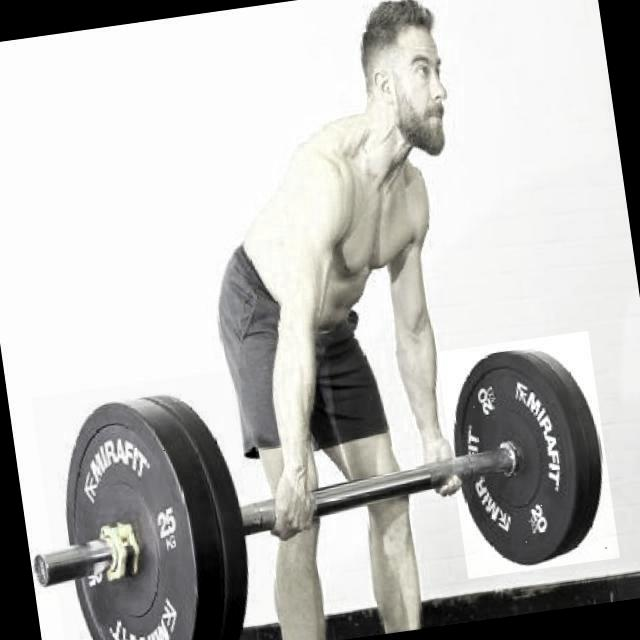barbell: (32, 367, 287, 640), (437, 332, 620, 580)
